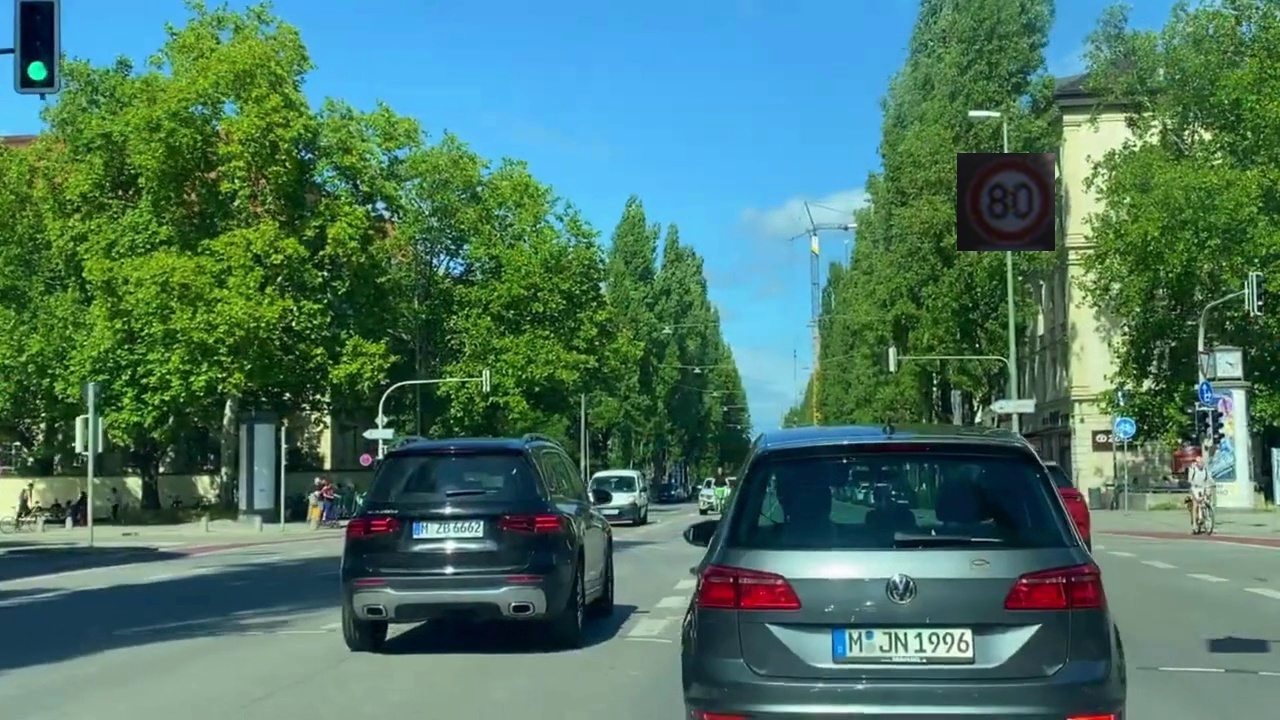Speed 80: (957, 153, 1055, 251)
